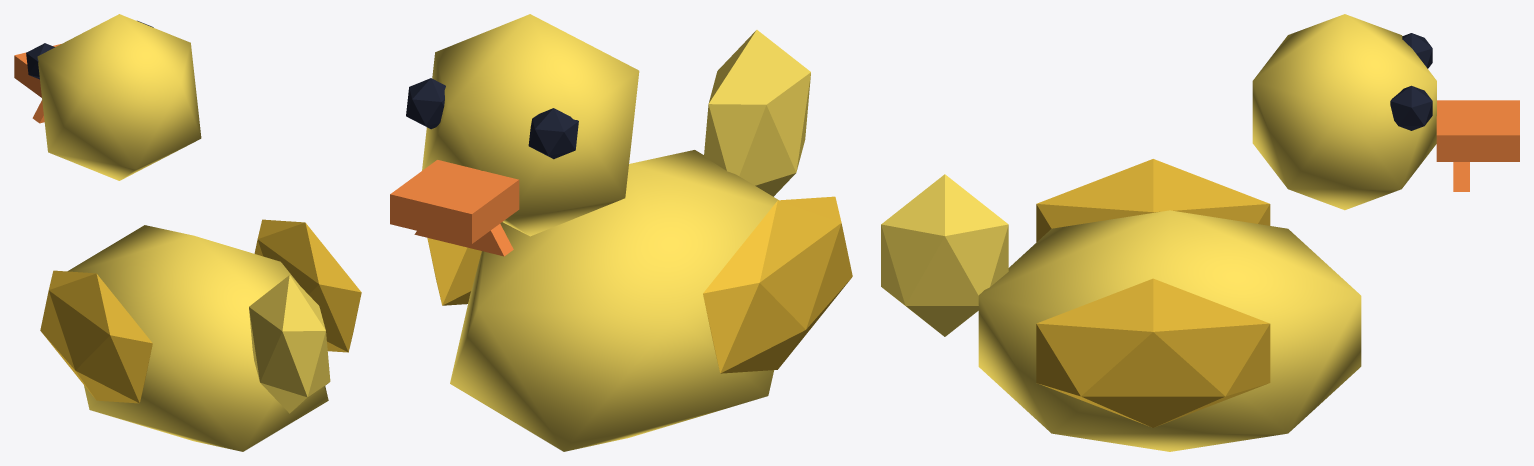
Rendered from duck.glb.
3 renders of one model, left to right at view 1: azimuth 30°, elevation 25°; view 2: azimuth 150°, elevation 25°; view 3: azimuth 270°, elevation 25°, orthographic. The views are drawn at different scales.
Parts seen in each view (by area): view 1: DuckHull, DuckHead, DuckWingL, DuckTail, DuckWingR, DuckBeakB, DuckEyeL; view 2: DuckHull, DuckHead, DuckWingL, DuckTail, DuckBeakB, DuckWingR, DuckEyeL, DuckEyeR, DuckBeak; view 3: DuckHull, DuckHead, DuckWingR, DuckTail, DuckWingL, DuckBeakB, DuckEyeR.
Part boxes in pixels (x1=…): DuckHull: x1=67, y1=225, x2=328, y2=451; DuckHead: x1=37, y1=14, x2=201, y2=180; DuckWingL: x1=40, y1=270, x2=152, y2=403; DuckTail: x1=249, y1=275, x2=330, y2=413; DuckWingR: x1=254, y1=219, x2=361, y2=352; DuckBeakB: x1=14, y1=44, x2=60, y2=97; DuckEyeL: x1=26, y1=43, x2=54, y2=79; DuckHull: x1=450, y1=150, x2=778, y2=451; DuckHead: x1=422, y1=14, x2=639, y2=236; DuckWingL: x1=703, y1=196, x2=852, y2=373; DuckTail: x1=704, y1=30, x2=810, y2=196; DuckBeakB: x1=390, y1=160, x2=519, y2=243; DuckWingR: x1=427, y1=238, x2=481, y2=305; DuckEyeL: x1=528, y1=108, x2=578, y2=159; DuckEyeR: x1=406, y1=78, x2=445, y2=129; DuckBeak: x1=414, y1=224, x2=513, y2=256; DuckHull: x1=978, y1=210, x2=1361, y2=451; DuckHead: x1=1252, y1=14, x2=1436, y2=210; DuckWingR: x1=1036, y1=278, x2=1270, y2=427; DuckTail: x1=881, y1=174, x2=1008, y2=336; DuckWingL: x1=1036, y1=159, x2=1270, y2=242; DuckBeakB: x1=1436, y1=100, x2=1519, y2=161; DuckEyeR: x1=1390, y1=85, x2=1432, y2=130.
Size of the model in its own units: 0.4089 by 0.58 by 0.7666.
